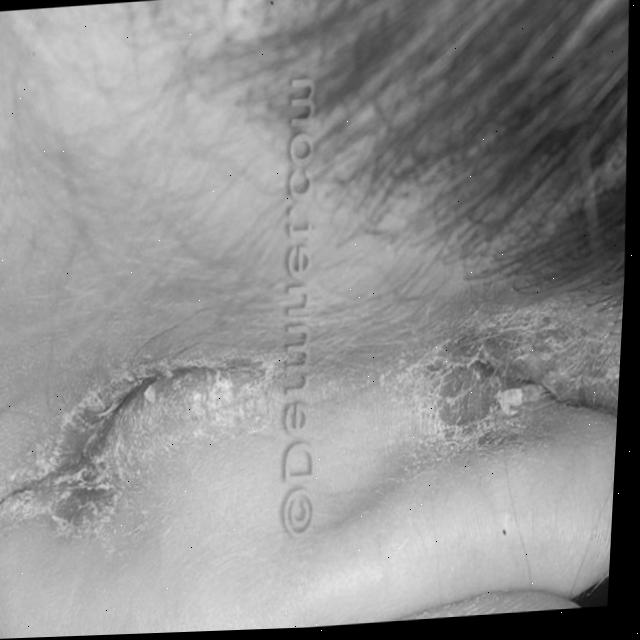Eczema: (28, 276, 606, 536)
